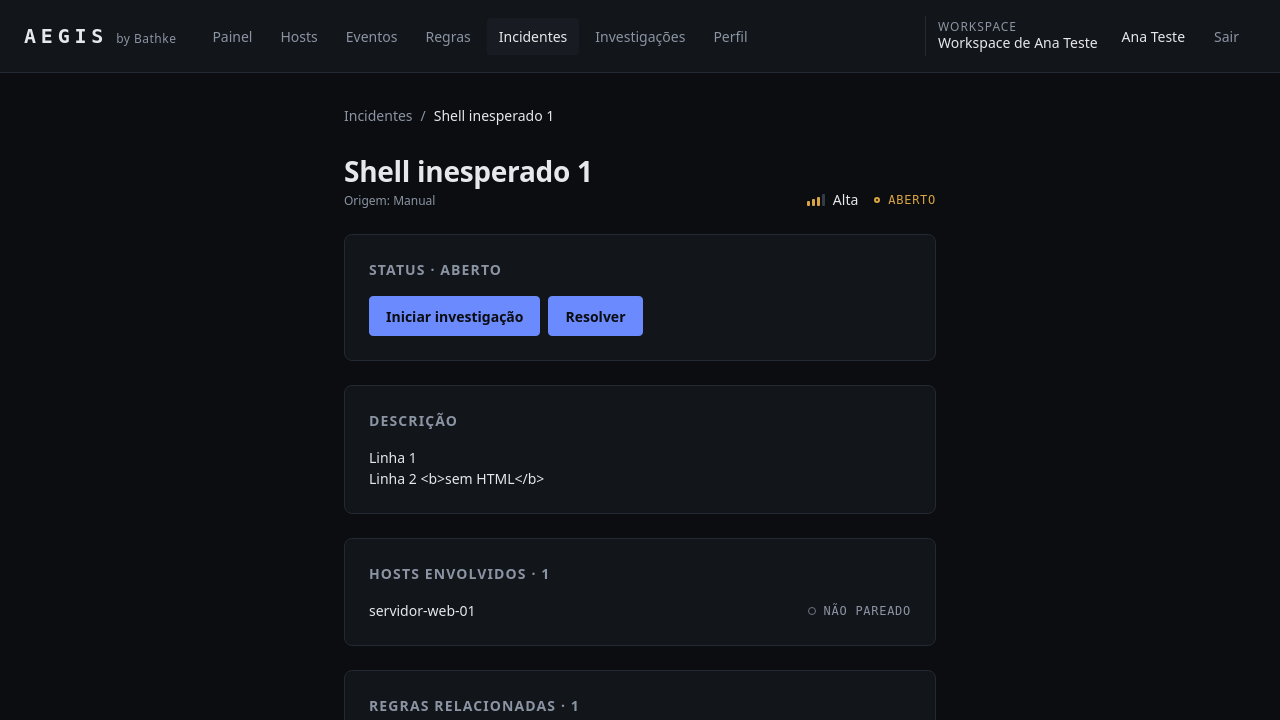
incident detail and lifecycle › shows the server message when a transition is refused (409)
Click the button "Iniciar investigação".
click(455, 316)  # box 369,296 -> 540,336
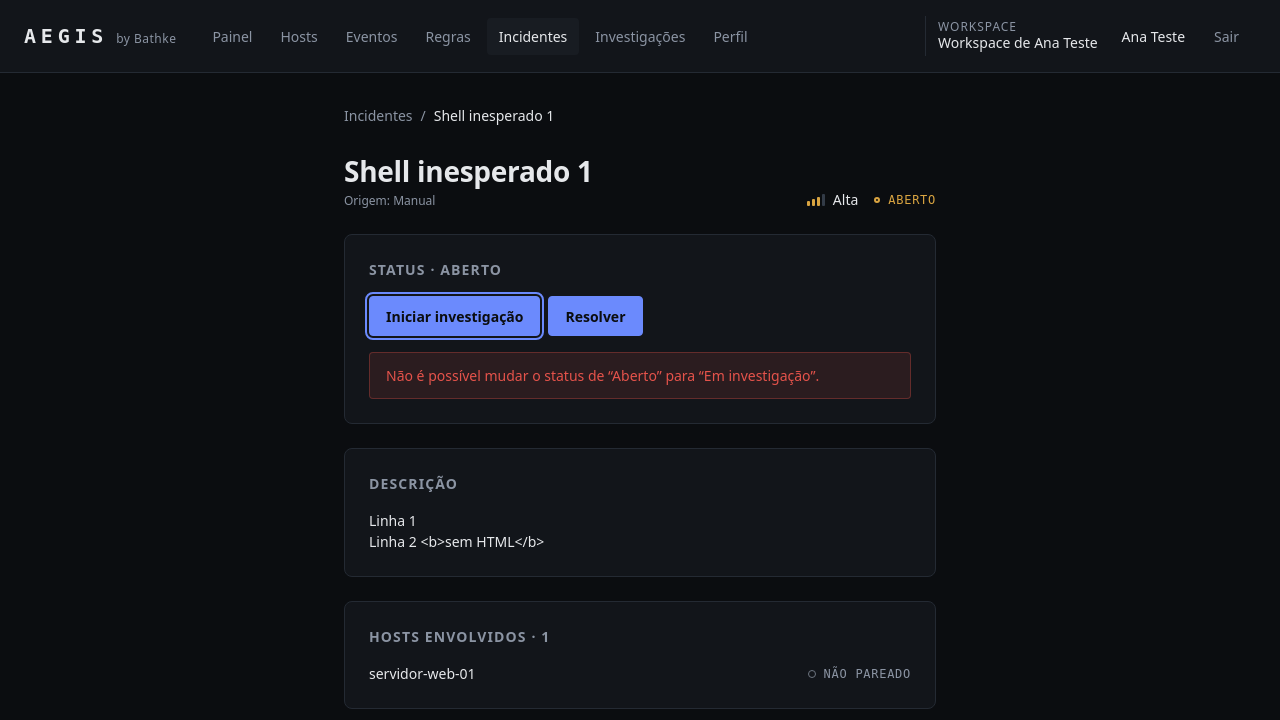
expect the message reads "Não é possível mudar o status de “Aberto” para “Em investigação”.": met, box 386,366 -> 819,385
